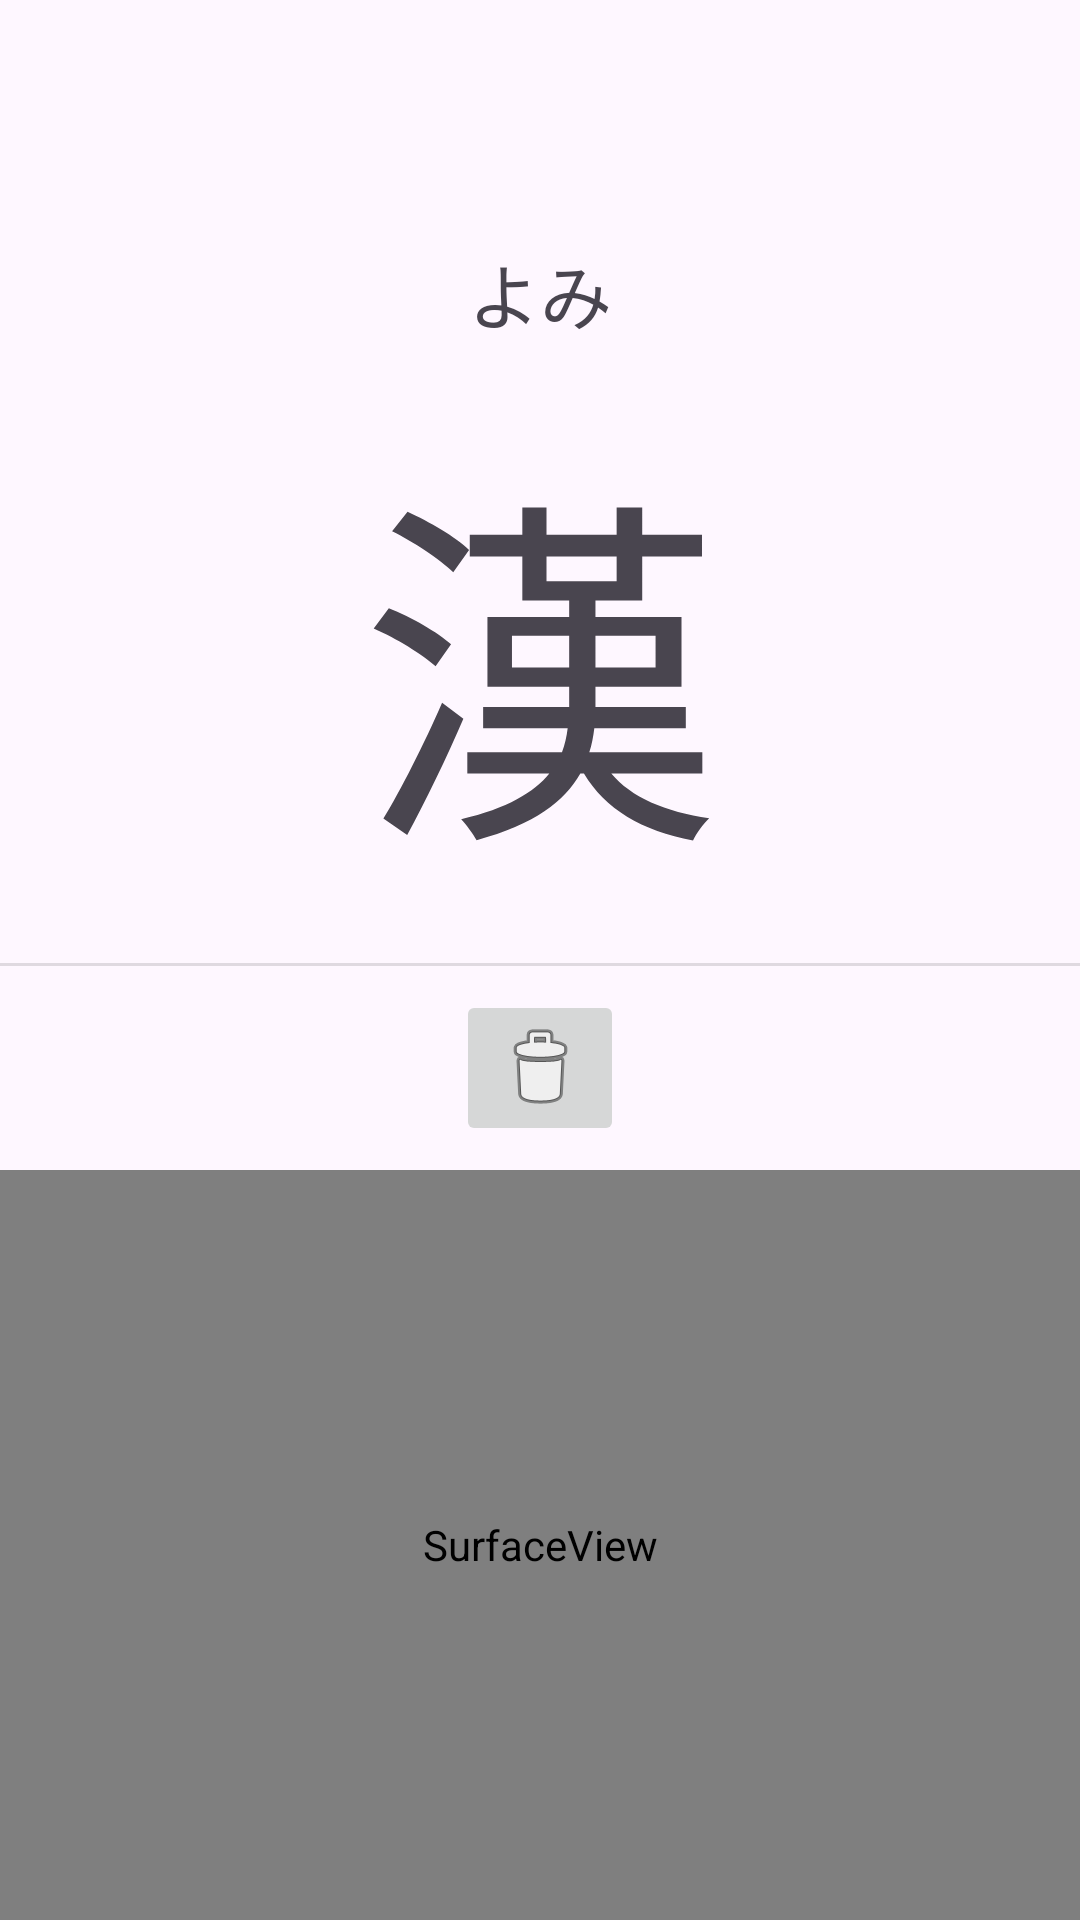

Point at icon controls on the screen. Image size 1080 × 1920, points as [x,y].
Clear: [540,1068]
